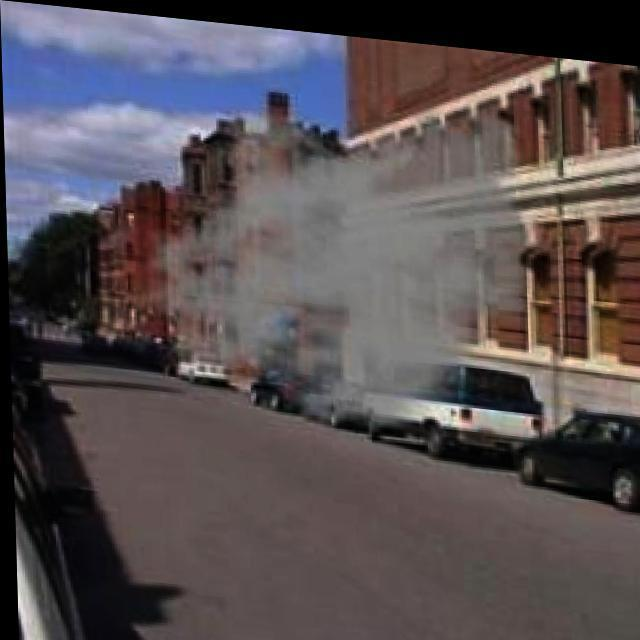Smoke: (148, 54, 538, 452)
